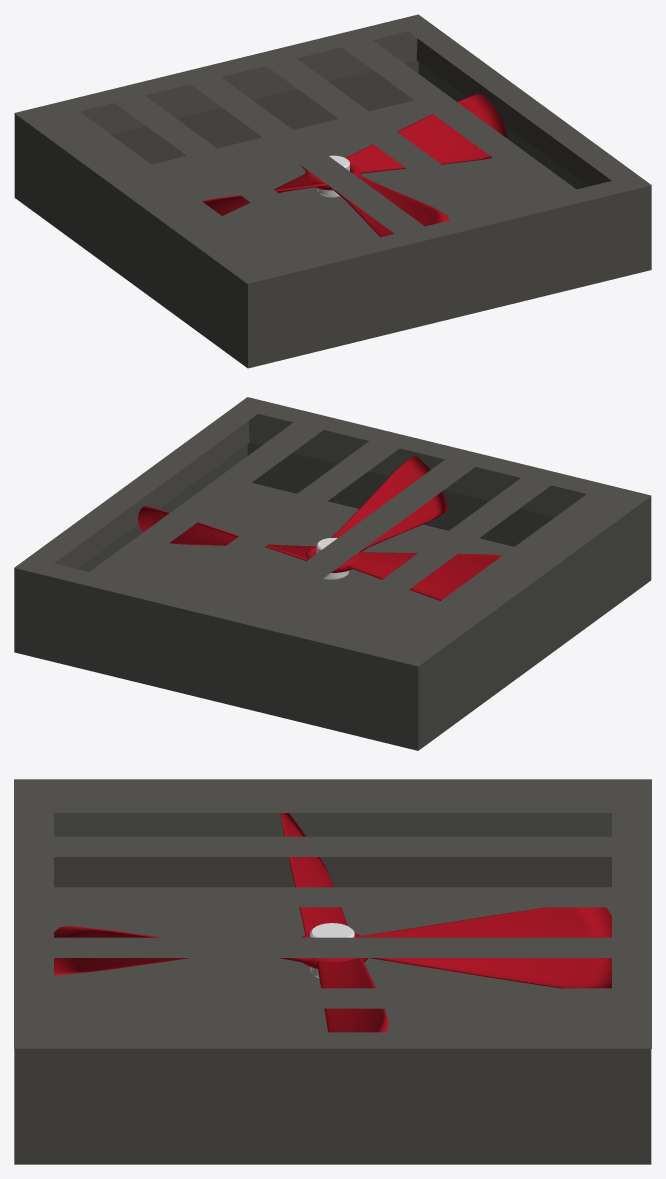
The model's file is fan .fbx.
3 renders of one model, top to bottom at view 1: azimuth 30°, elevation 25°; view 2: azimuth 150°, elevation 25°; view 3: azimuth 270°, elevation 25°, orthographic. The views are drawn at different scales.
Visible parts, largest first — view 1: Cube.010, Torus; view 2: Cube.010, Torus; view 3: Cube.010, Torus, Cylinder.021.
Boxes of the visible parts, left/top/right/bottom form: Cube.010: left=14, top=14, right=651, bottom=368; Torus: left=189, top=94, right=507, bottom=237; Cube.010: left=14, top=397, right=651, bottom=750; Torus: left=138, top=456, right=516, bottom=600; Cube.010: left=14, top=779, right=651, bottom=1164; Torus: left=54, top=805, right=611, bottom=1032; Cylinder.021: left=310, top=923, right=354, bottom=977.
Size of the model in its own units: 2853 by 573 by 2853.
